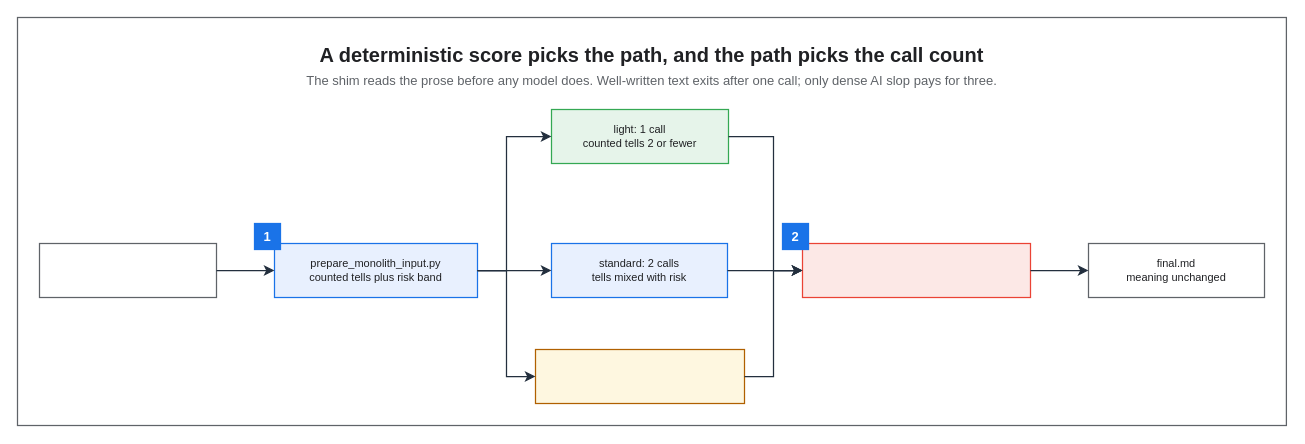
This 1305x444 diagram has some shape labels left out. Here are the shapes that lost their labels. From the top down, the centre of each, then its label:
At point (127, 270): "Input prose no model has seen it yet".
At point (916, 270): "verify_gates.py warns at 30 percent, stops at 50".
At point (639, 376): "heavy: 3+ calls tells 8 or more, or very long".
